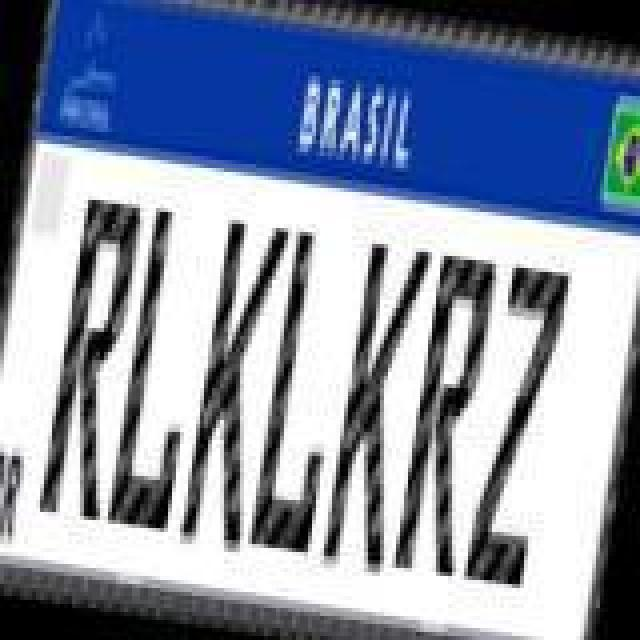K: (174, 214, 290, 554), (318, 238, 434, 578)
L: (246, 224, 362, 560), (104, 202, 216, 534)
R: (390, 250, 506, 582), (36, 194, 148, 526)
Z: (460, 258, 572, 590)
